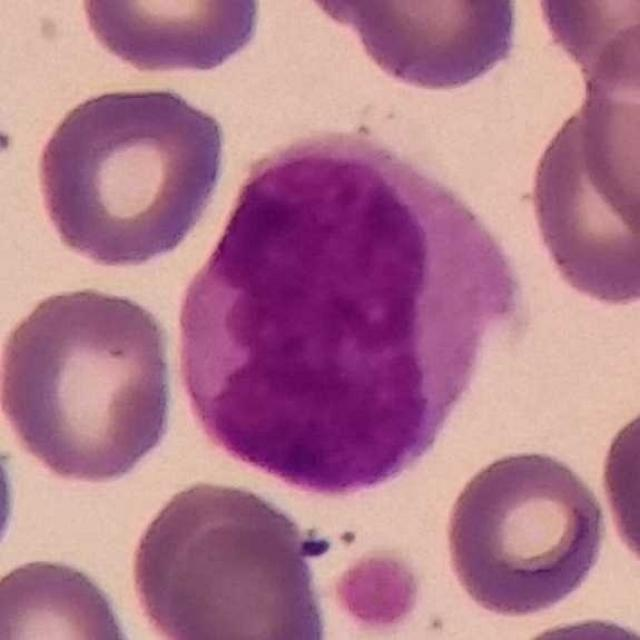Monocyte: (177, 123, 522, 492)
Platelets: (329, 545, 426, 639), (298, 533, 334, 562)
RBC: (29, 78, 233, 273), (0, 278, 183, 489), (124, 475, 325, 640), (439, 443, 612, 620), (521, 98, 639, 309), (320, 0, 528, 96), (74, 0, 268, 79), (574, 18, 640, 212), (0, 551, 139, 640), (530, 0, 640, 81), (595, 393, 640, 579), (496, 611, 640, 640)
